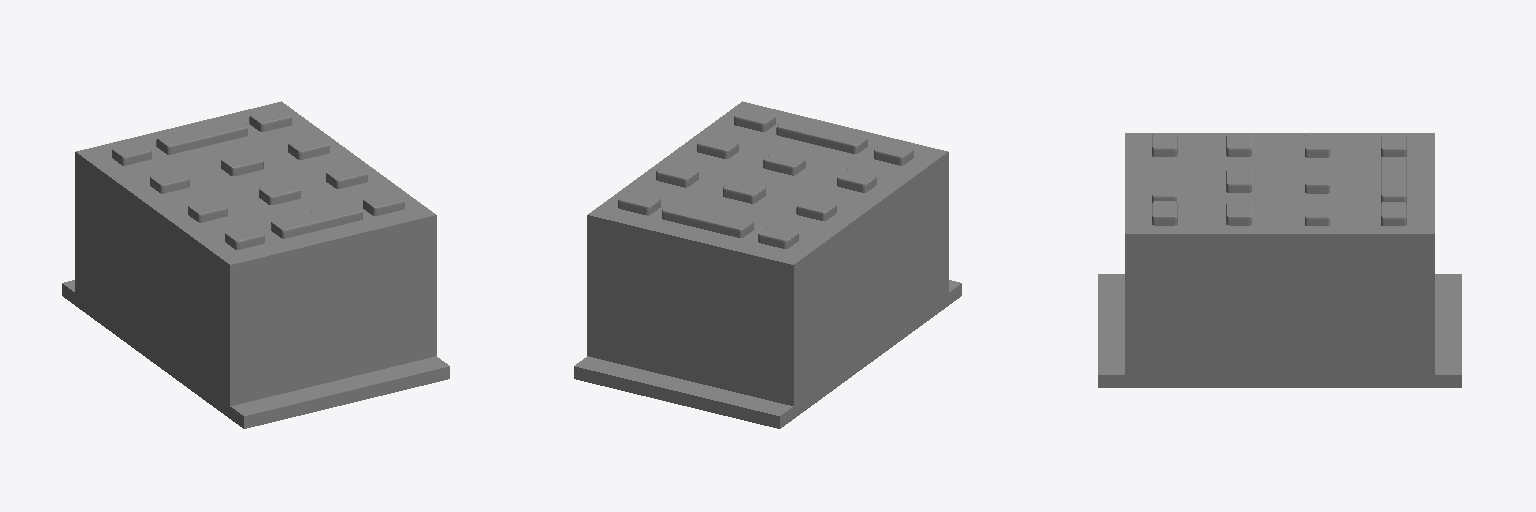
File: Magneticassemblylinebox.obj
3 renders of one model, left to right at view 1: azimuth 30°, elevation 25°; view 2: azimuth 150°, elevation 25°; view 3: azimuth 270°, elevation 25°, orthographic.
Visible parts, largest first — view 1: Box139; view 2: Box139; view 3: Box139.
Boxes of the visible parts, x1,y1,x2,y2 form: Box139: [62, 101, 449, 428]; Box139: [574, 101, 961, 428]; Box139: [1098, 133, 1461, 387].
Bounding box in the file's own units: 12.53 × 9.45 × 19.19.